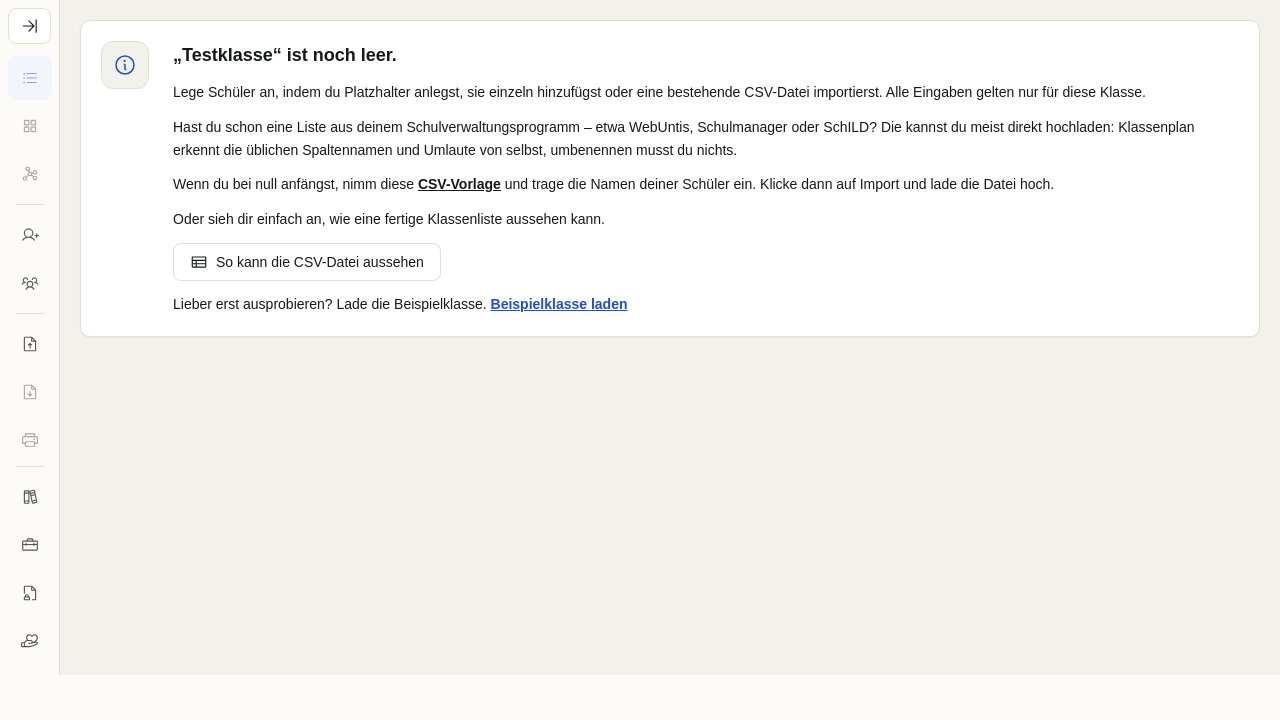
Scenario: StudentInput › uses importCsv for a CSV upload
Click the button named "Klassenliste importieren" at (30,344), box [8,322,52,366]
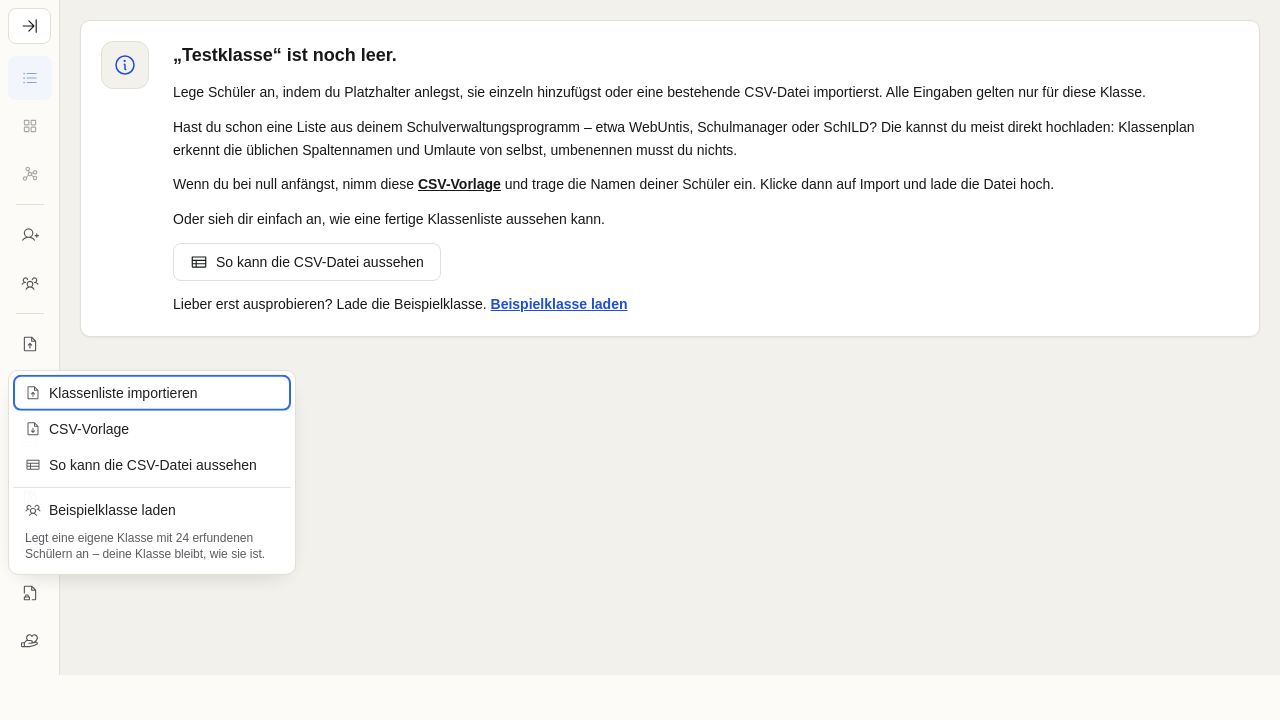
Result: the element that starts with "Klassenliste importieren" is shown at [8,370,296,575]
